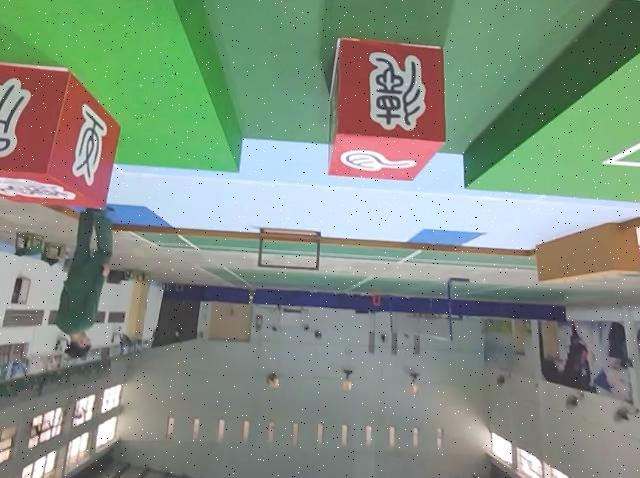R2 Fake: (0, 61, 119, 209), (326, 39, 448, 183)
